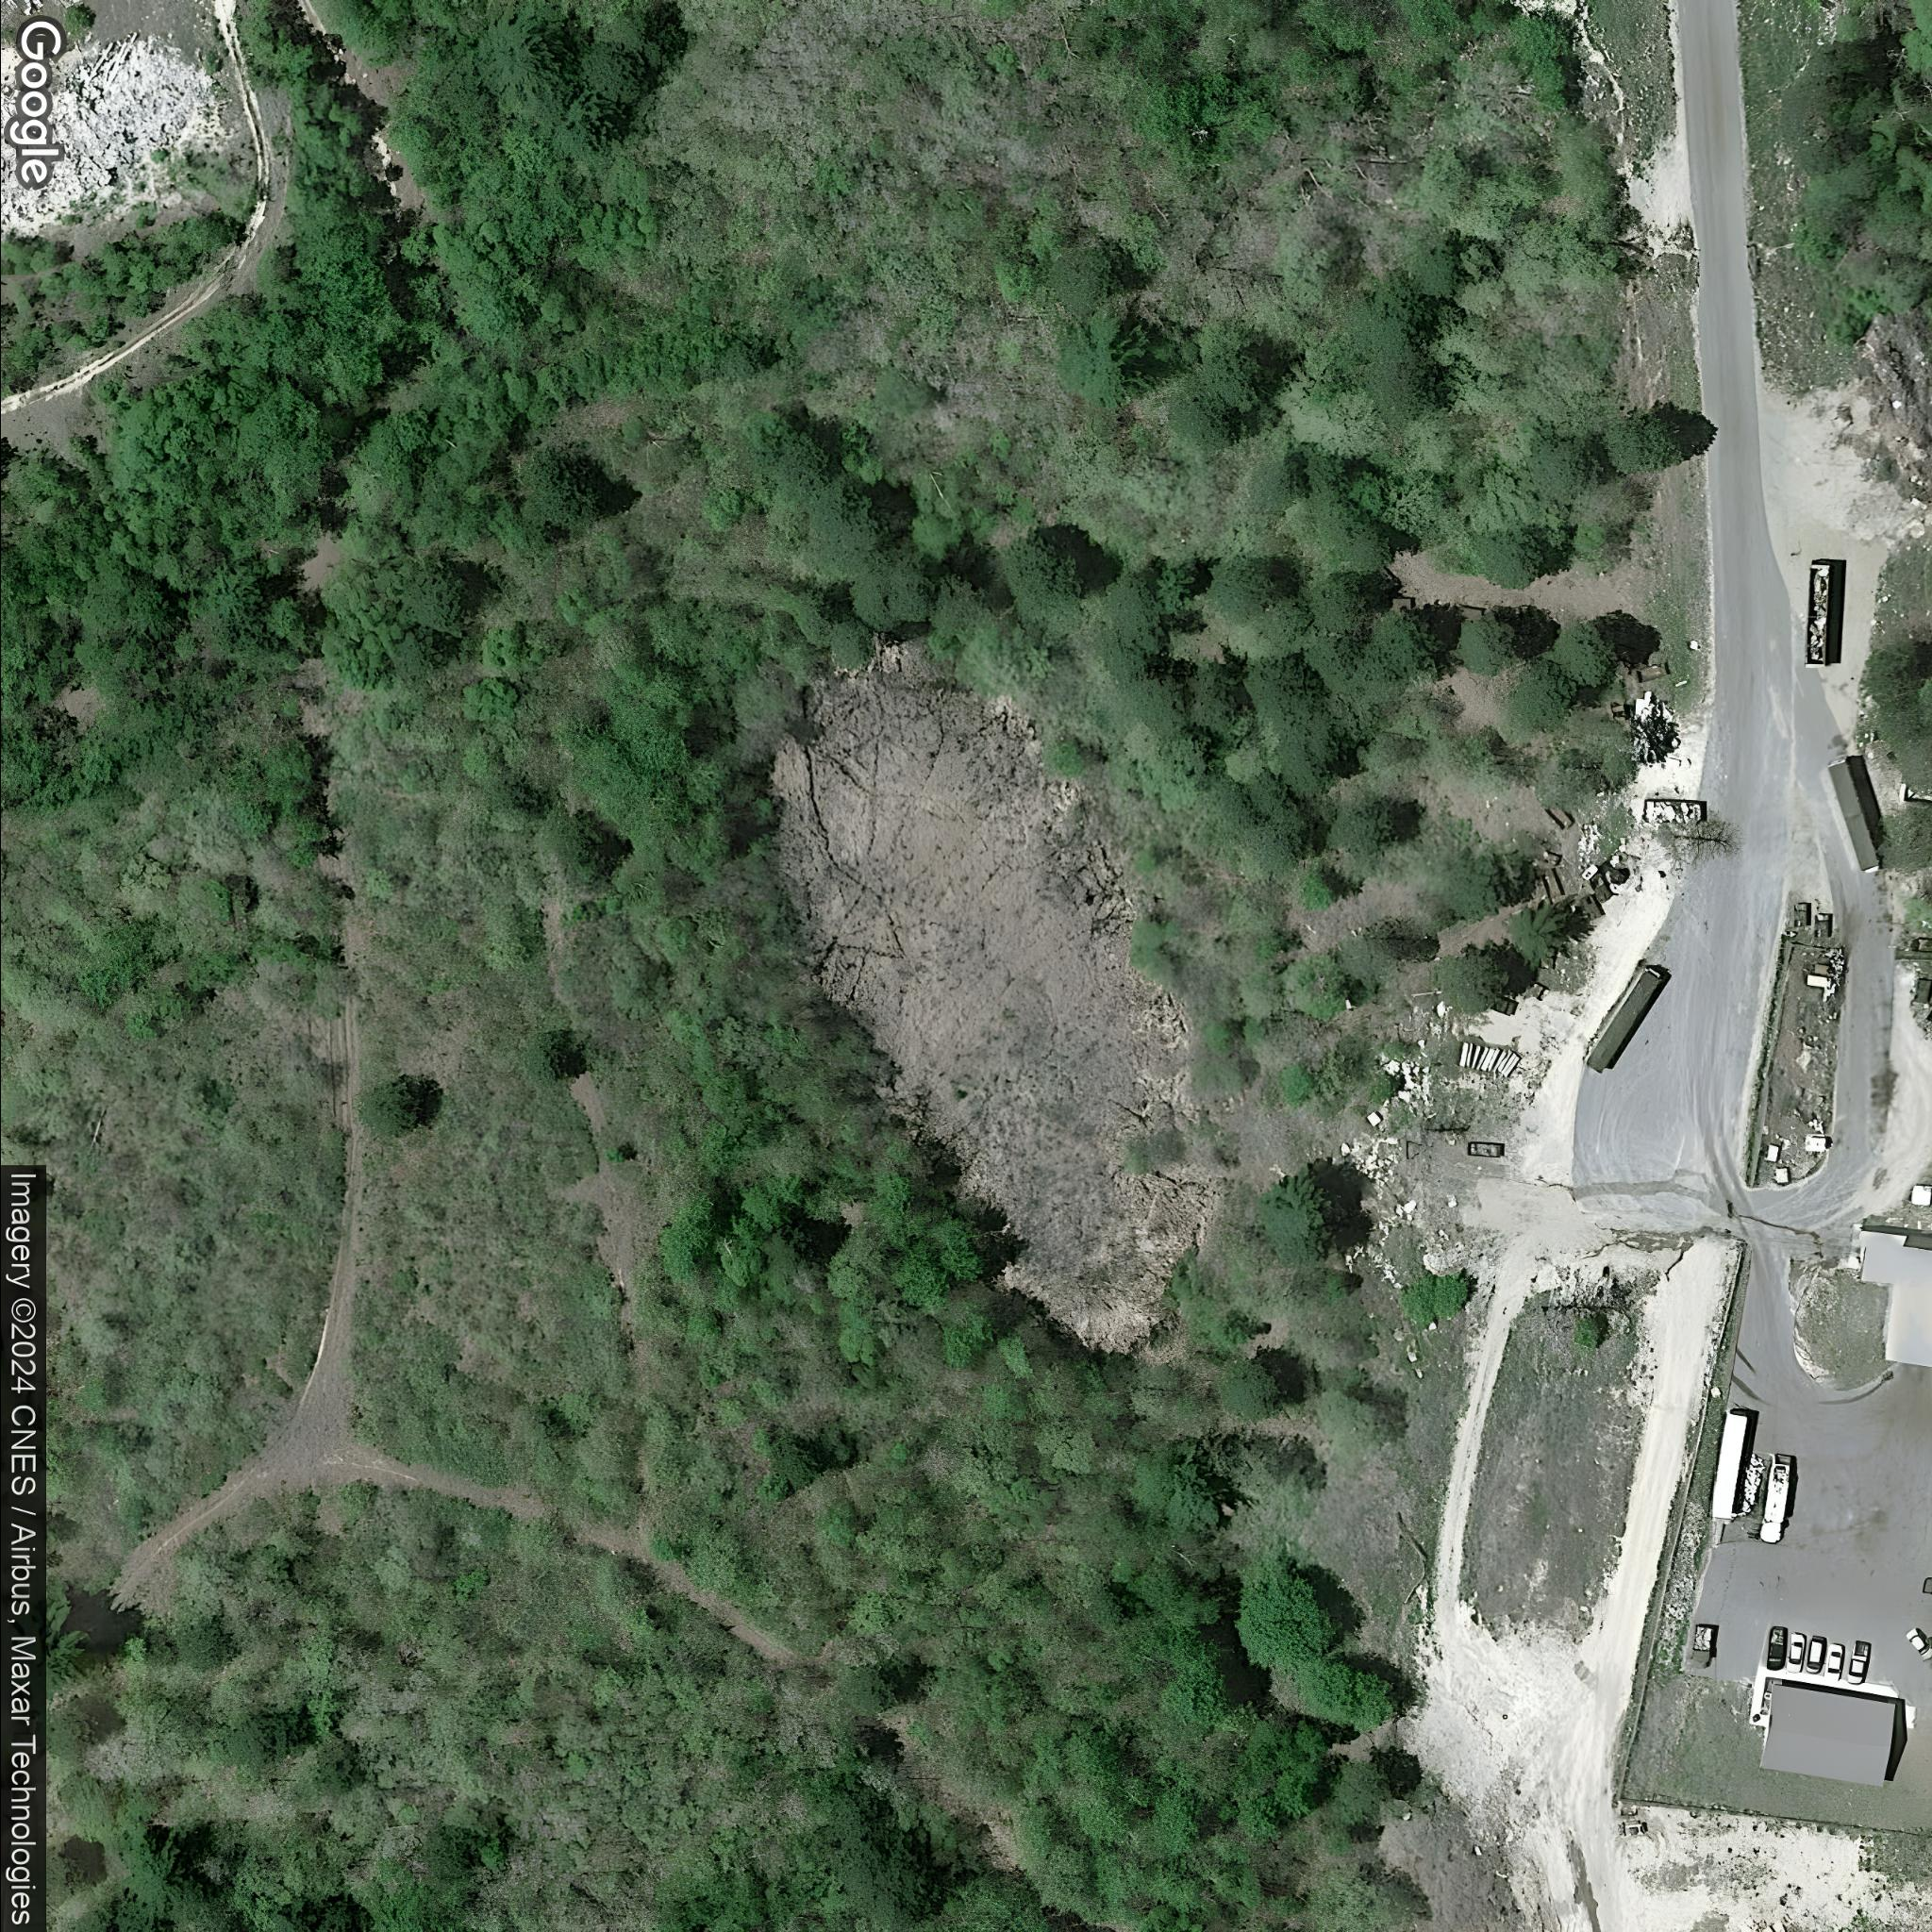Garage: (1755, 1679, 1897, 1792)
House: (1859, 1230, 1932, 1369)
